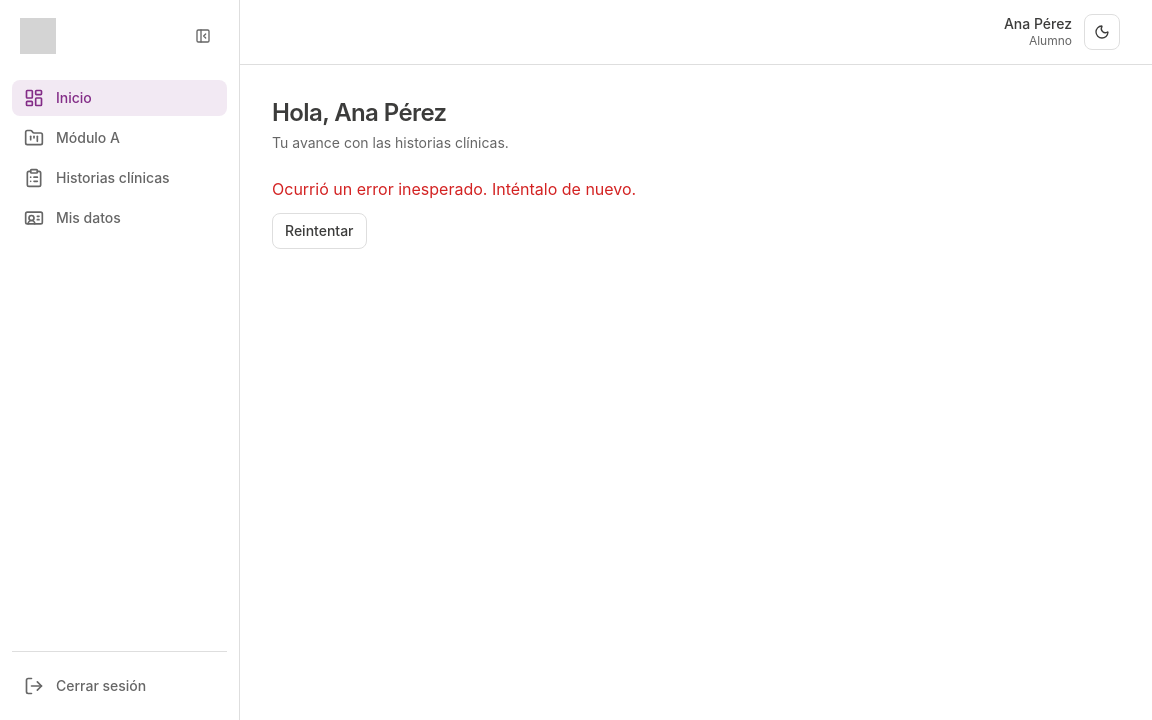
Scenario: app-shell — Navegación declarada por configuración › Navegar a un ítem de ejemplo: muestra 'Próximamente' con el nombre y mantiene el shell
Click the link "Módulo A".
click(72, 138)  # box [24,128,120,148]
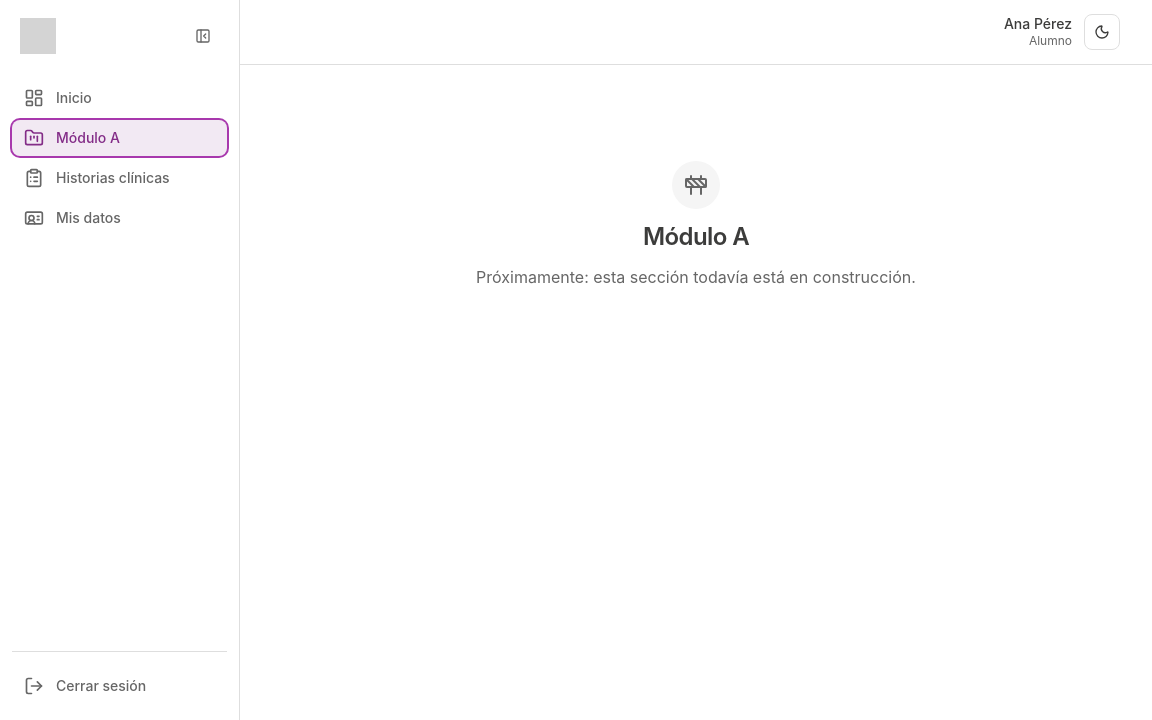
Expected: the navigation bar named "Navegación principal" is shown, [12,80,227,236]
Now the heading "Módulo A" is shown, box [643,221,749,253]
Now the text "Próximamente: esta sección todavía está en construcción." is shown, box [476,265,916,289]
